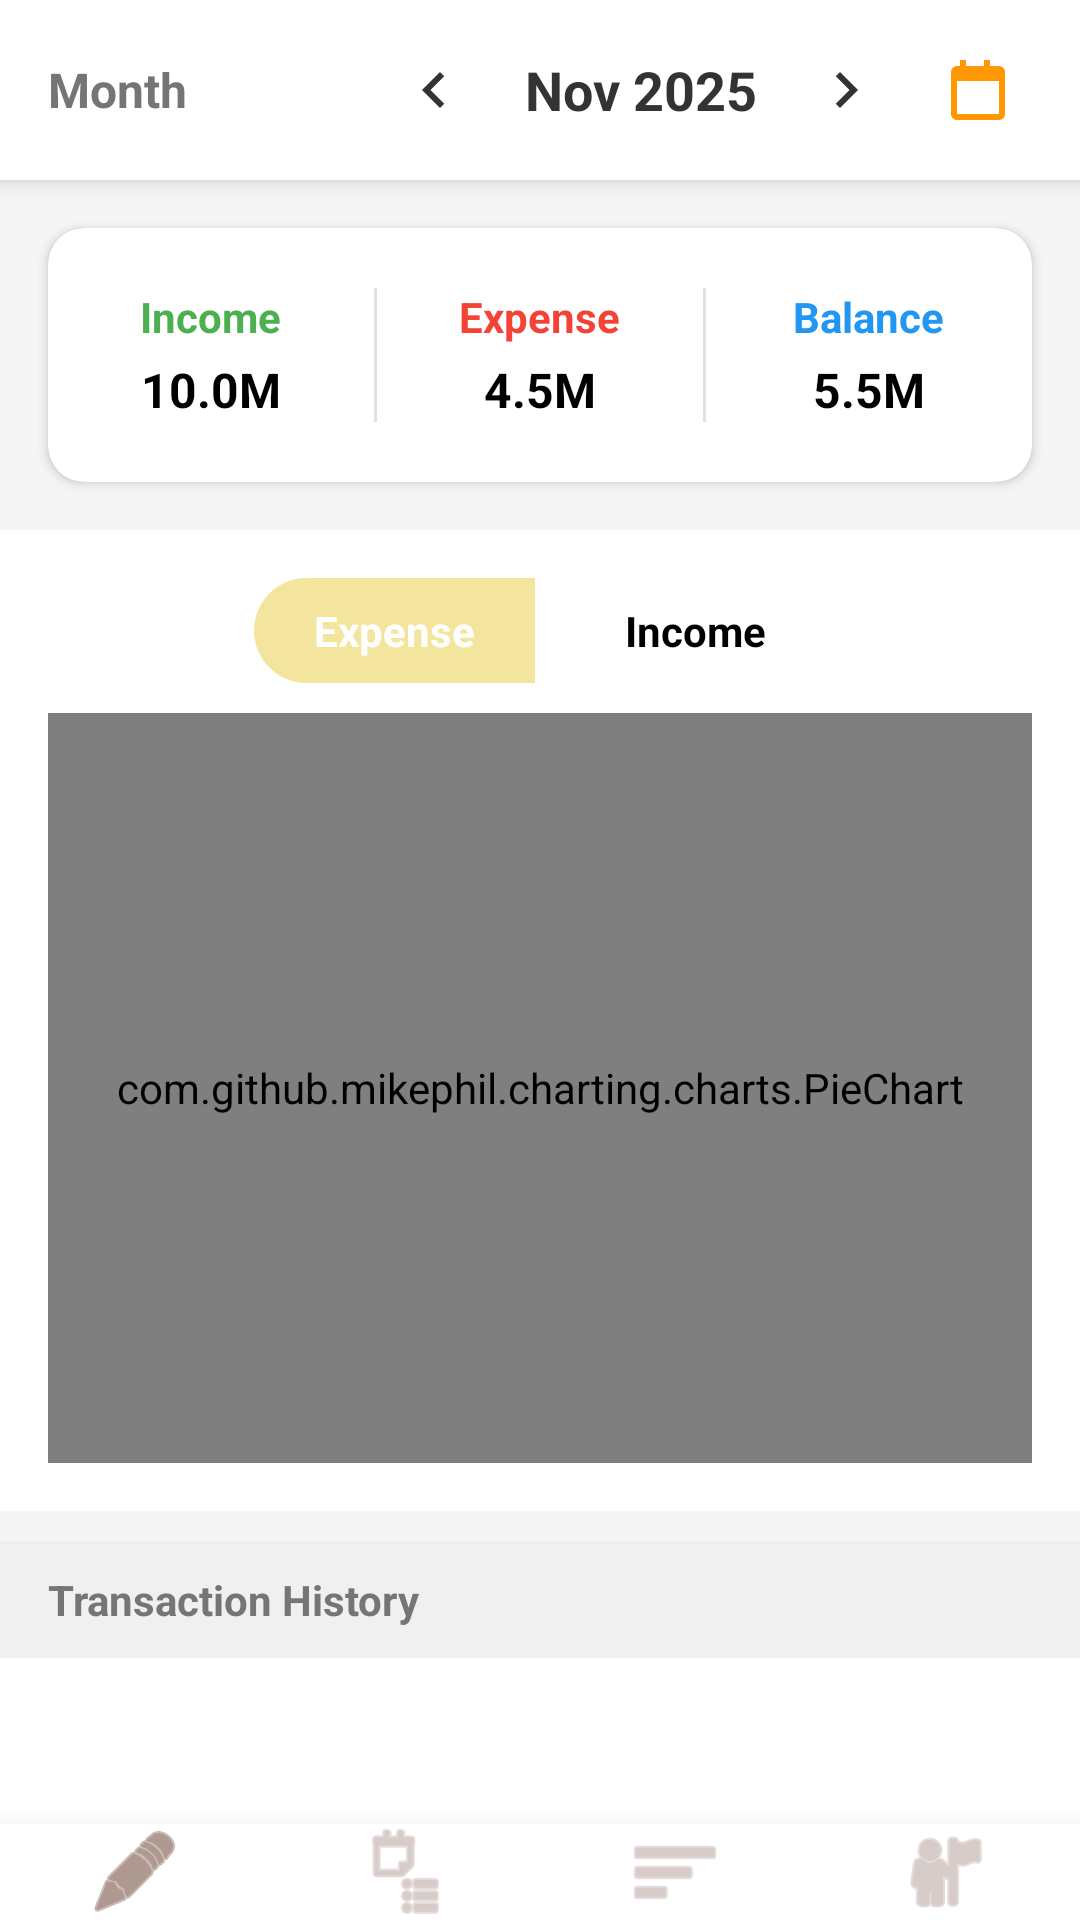

Screen size 1080*1920. Icon name, then its center in pixels as [x,y]:
Next Month: [847,90]
Open Calendar: [978,90]
Previous Month: [433,90]
Report: [675,1872]
Transactions: [405,1871]
